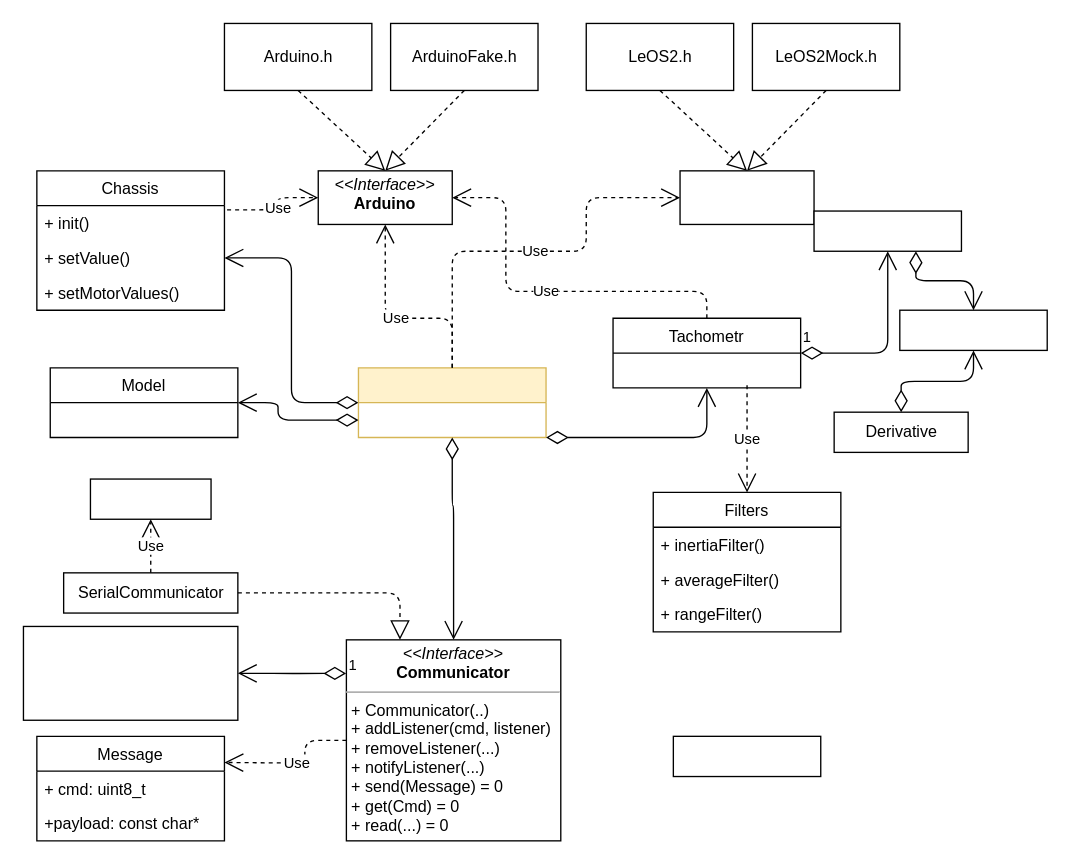
Image size: 1071x868. Some labels were removed from this diagram. Each missing label, with the centre of its shape:
"<<Interface>> LeOS2" belongs at [746,197].
"<<Interface>> Listener + operator()(Message&) = 0" belongs at [130,672].
"CircularBuffer" belongs at [972,329].
"Controller" belongs at [451,402].
"Logger" belongs at [746,756].
"SerialMock" belongs at [150,498].
"StaticStorage" belongs at [887,230].
